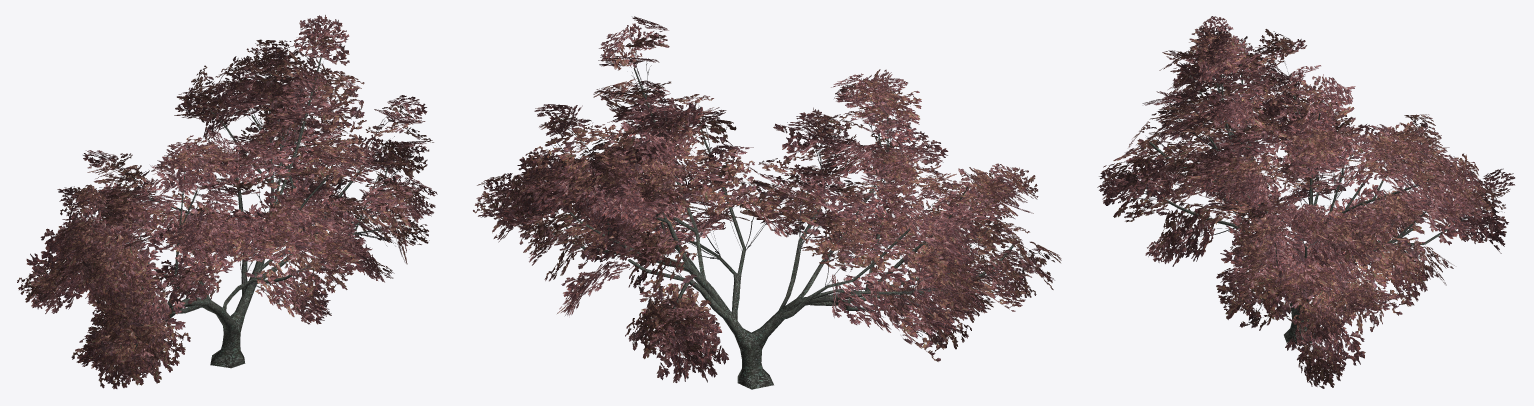
File: Red_Oak.fbx
3 renders of one model, left to right at view 1: azimuth 30°, elevation 25°; view 2: azimuth 150°, elevation 25°; view 3: azimuth 270°, elevation 25°, orthographic. The views are drawn at different scales.
Parts seen in each view (by area): view 1: Leaves_1, Leaves_2, Tree, Branch; view 2: Leaves_1, Leaves_2, Tree, Branch; view 3: Leaves_2, Leaves_1, Tree, Branch.
Boxes of the visible parts, box(x1,y1,x2,y2) form: Leaves_1: box(17, 27, 433, 388); Leaves_2: box(26, 15, 437, 384); Tree: box(90, 57, 387, 368); Branch: box(57, 45, 416, 359); Leaves_1: box(473, 31, 1061, 364); Leaves_2: box(476, 16, 1054, 382); Tree: box(525, 68, 1013, 389); Branch: box(501, 39, 1038, 361); Leaves_2: box(1097, 16, 1514, 385); Leaves_1: box(1100, 28, 1510, 388); Tree: box(1149, 52, 1462, 344); Branch: box(1124, 39, 1498, 350).
Bounding box in the file's own units: 25.86 × 17.36 × 20.95.
